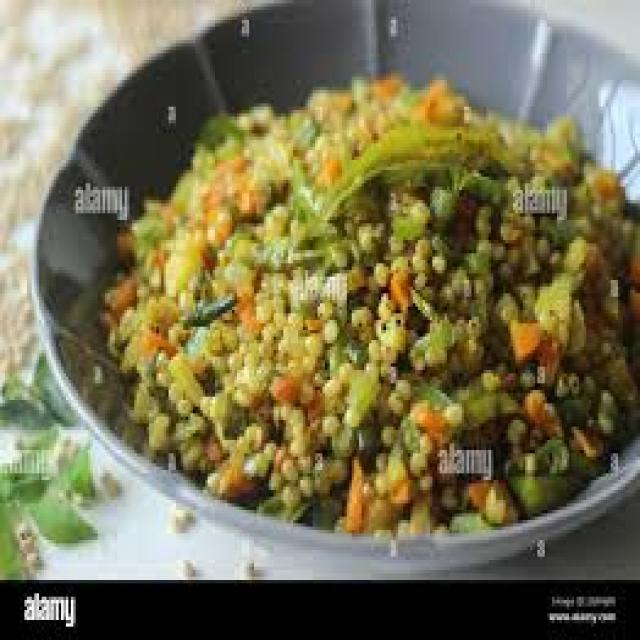UPMA: (93, 70, 635, 527)
